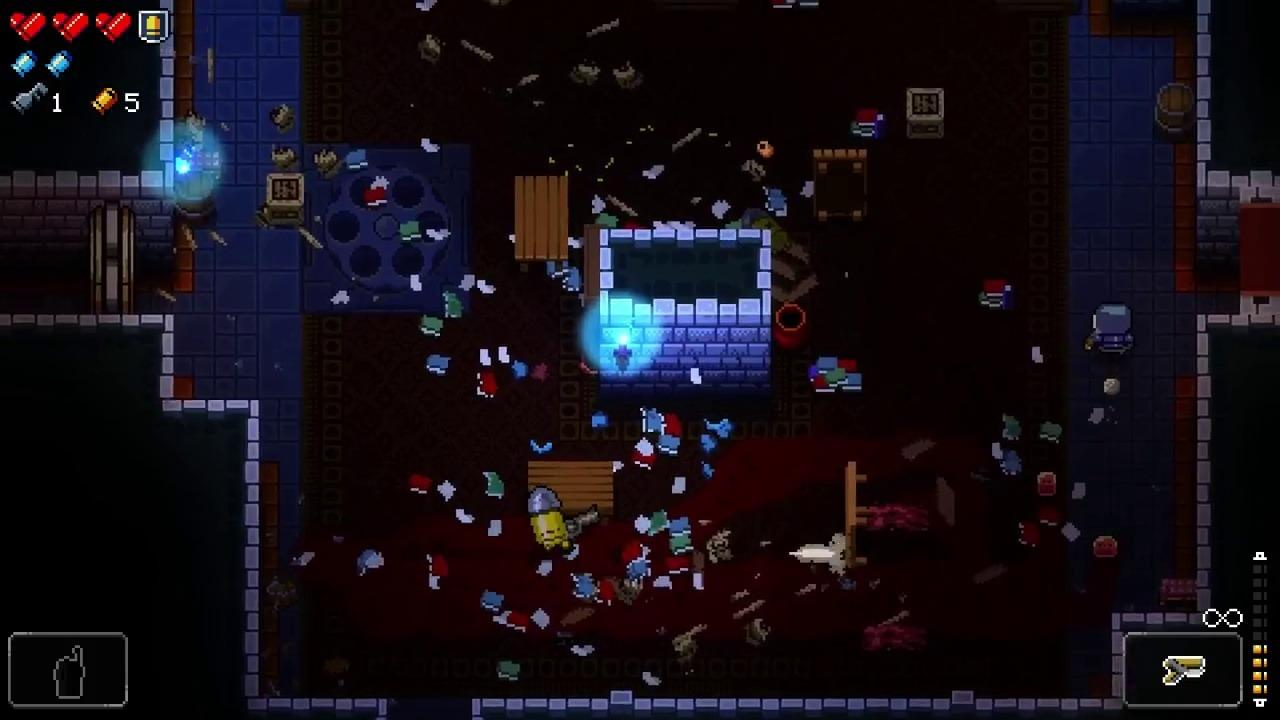blobulin_s: (1092, 536, 1117, 559), (1037, 472, 1057, 497)
blocked_door: (1239, 185, 1280, 315)
bullet_kin: (529, 487, 571, 551)
locked_door: (88, 200, 134, 315)
player: (1096, 305, 1134, 356)
table: (514, 175, 570, 273), (529, 461, 614, 523), (813, 149, 868, 223), (847, 463, 870, 568)
teleporter: (302, 143, 472, 317)
